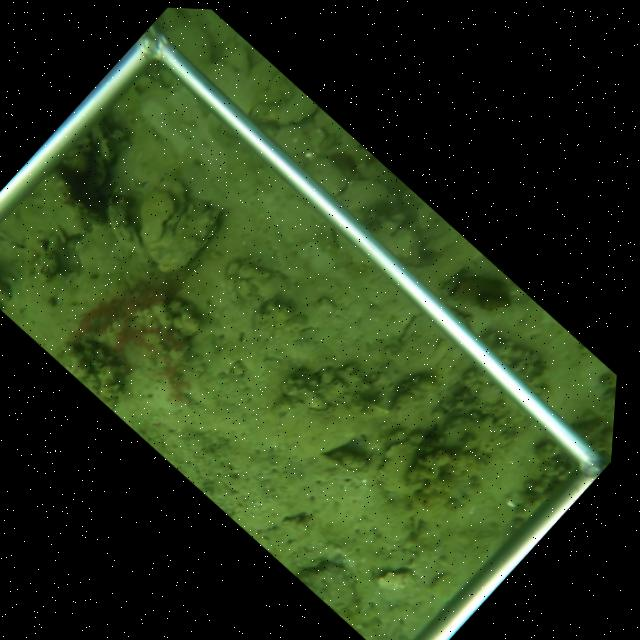Oyster-Closed: (136, 173, 222, 277), (248, 72, 319, 126), (372, 441, 429, 508), (295, 557, 358, 614), (432, 411, 493, 464), (277, 395, 338, 418)
Oyster-Indeterminate: (340, 175, 395, 211), (303, 157, 348, 199), (272, 126, 320, 161), (372, 564, 423, 591), (82, 152, 113, 194)
